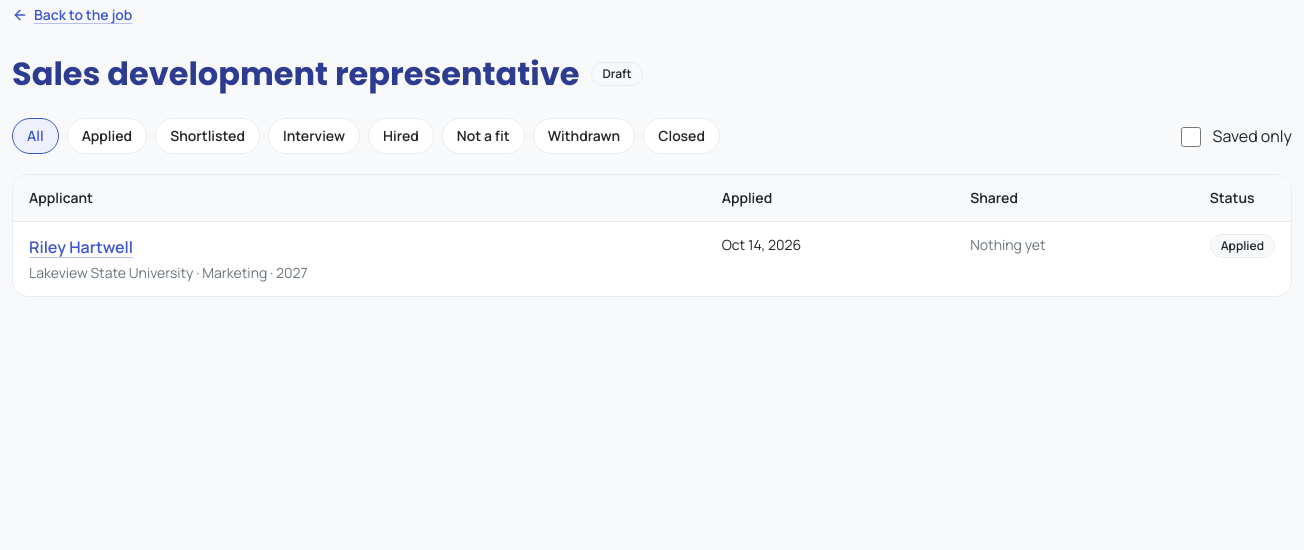
Test: JobApplicants › shows one breadcrumb row instead of two back links while an applicant is open
Check: the link "Back to the job" is shown, box [12,0,132,30]
Click the button "Riley Hartwell" at x=81, y=247, box [29,234,133,260]
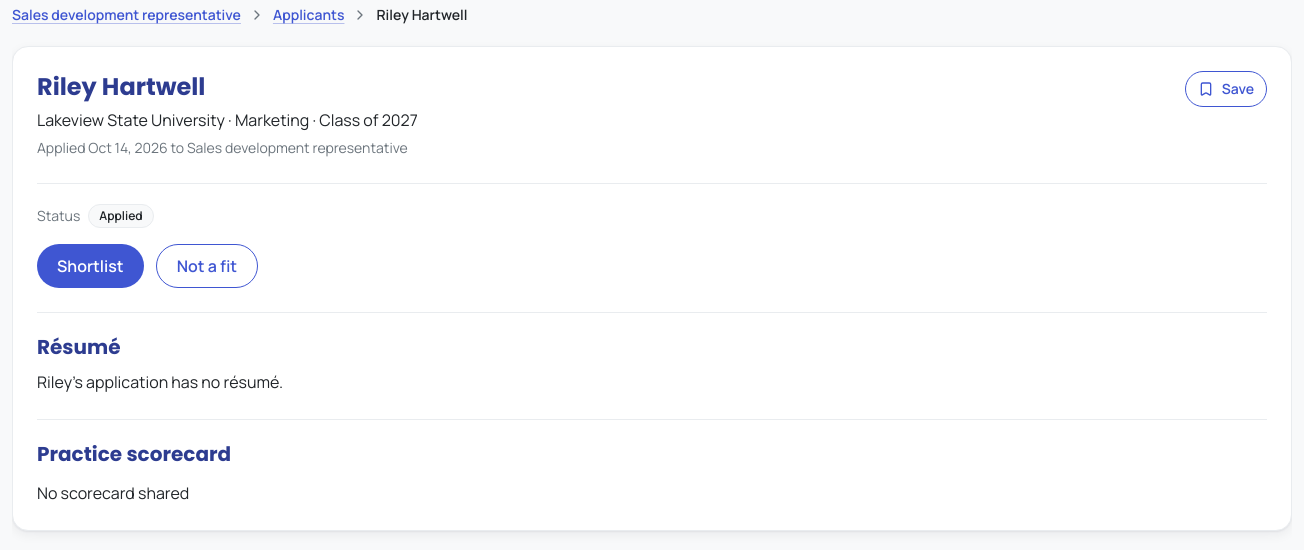
Check: the link "Back to the job" is gone
Click the button "Applicants" at x=309, y=15, box [273,0,344,30]
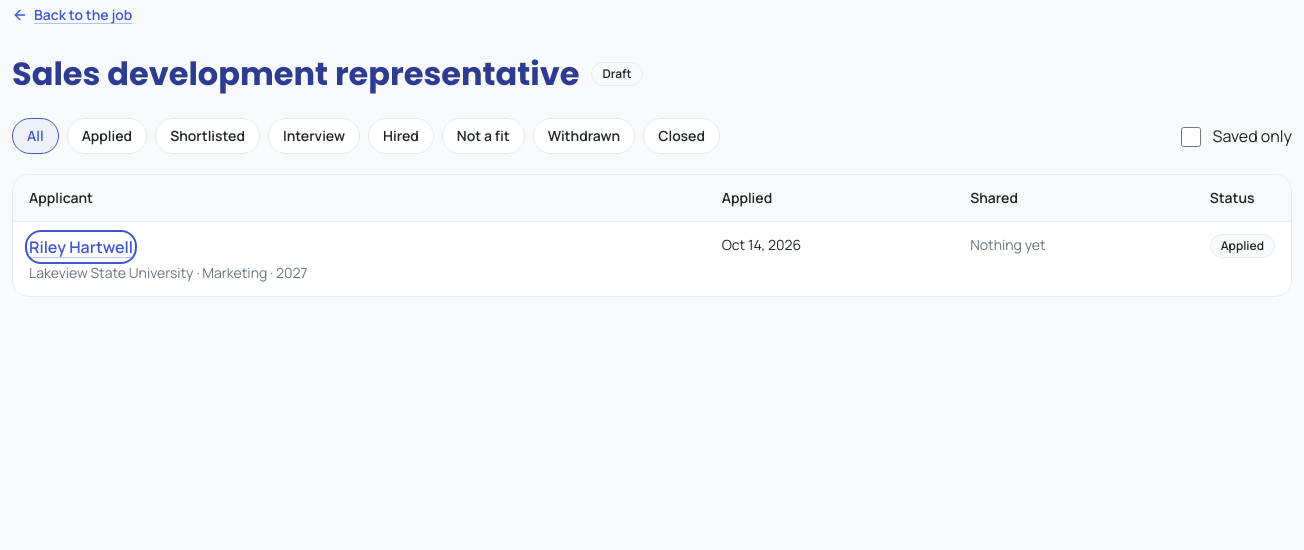
Check: the table named "Applicants" is shown, box [13,175,1291,296]
Check: the link "Back to the job" is shown, box [12,0,132,30]
